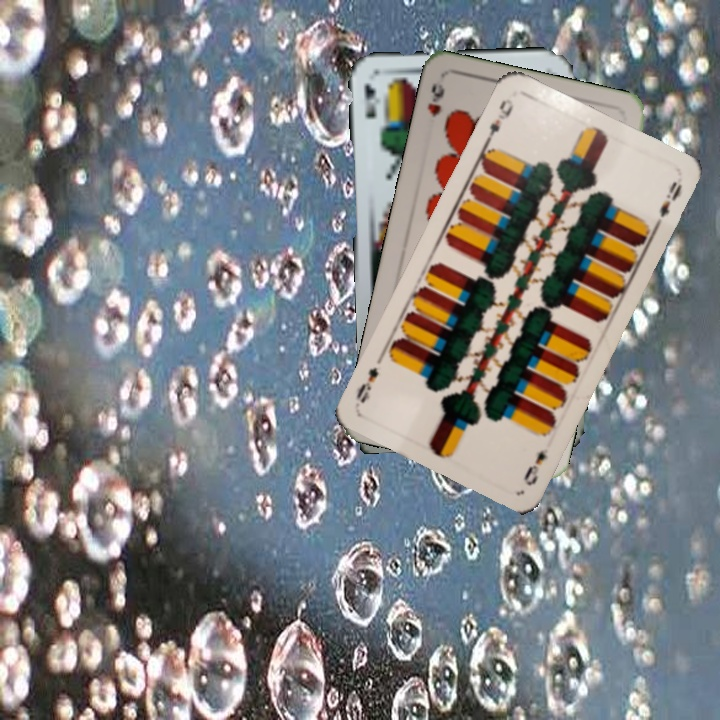E9: (481, 95, 517, 147), (519, 444, 551, 489)
EK: (359, 81, 379, 121)
H9: (423, 79, 448, 119)
